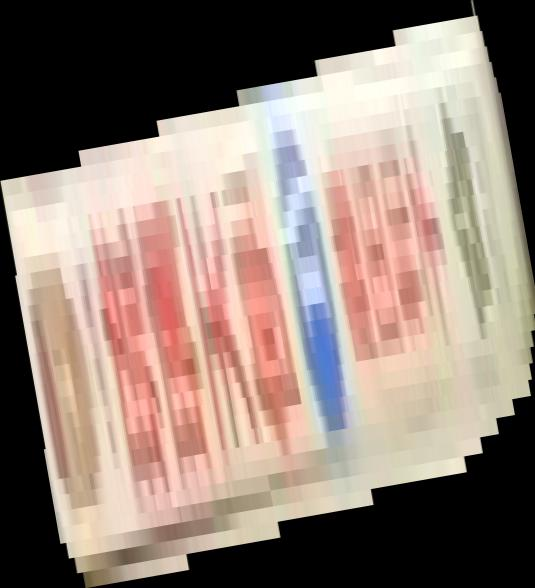flat: (1, 1, 535, 588)
